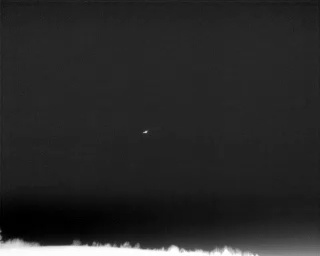BIRD: (141, 128, 150, 137)
